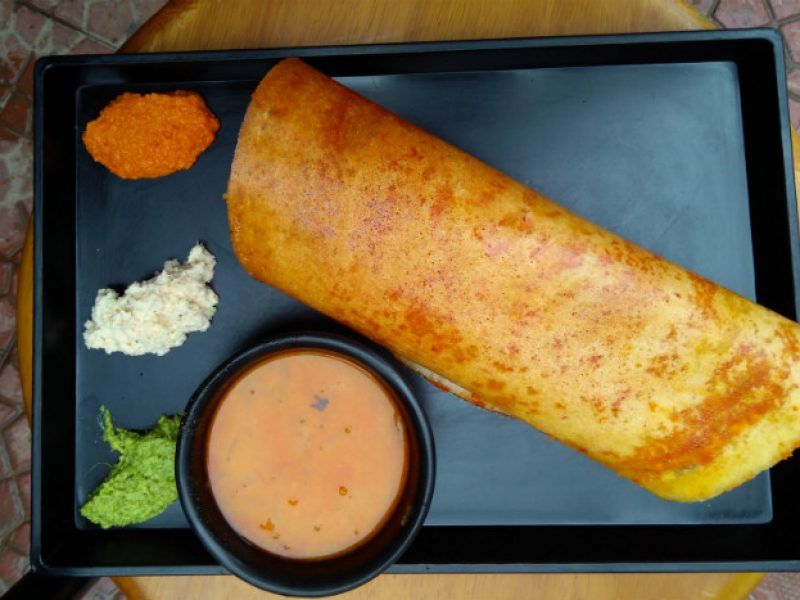dosa: (226, 37, 800, 525)
